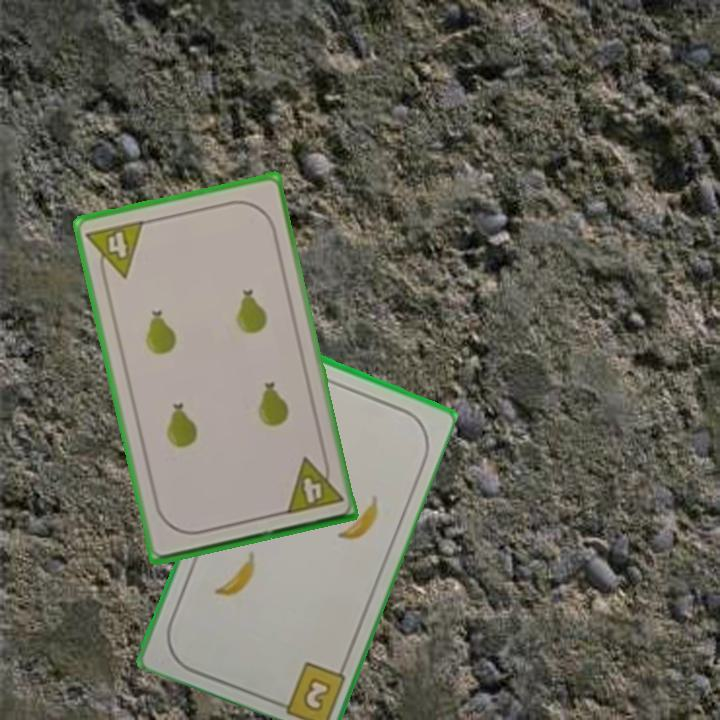2b: (298, 673, 334, 714)
4p: (83, 216, 147, 285), (281, 451, 346, 517)
